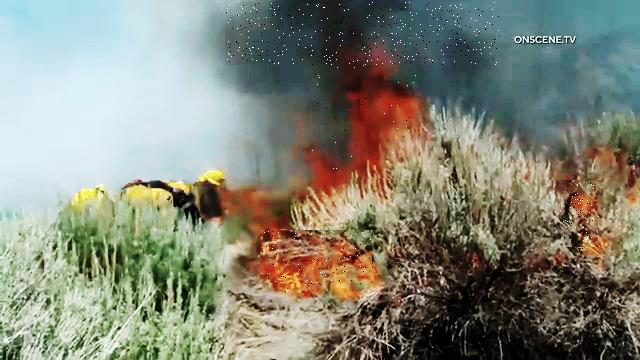fire: (310, 59, 422, 183), (260, 231, 374, 287), (562, 181, 601, 250)
smoke: (226, 2, 501, 65)
